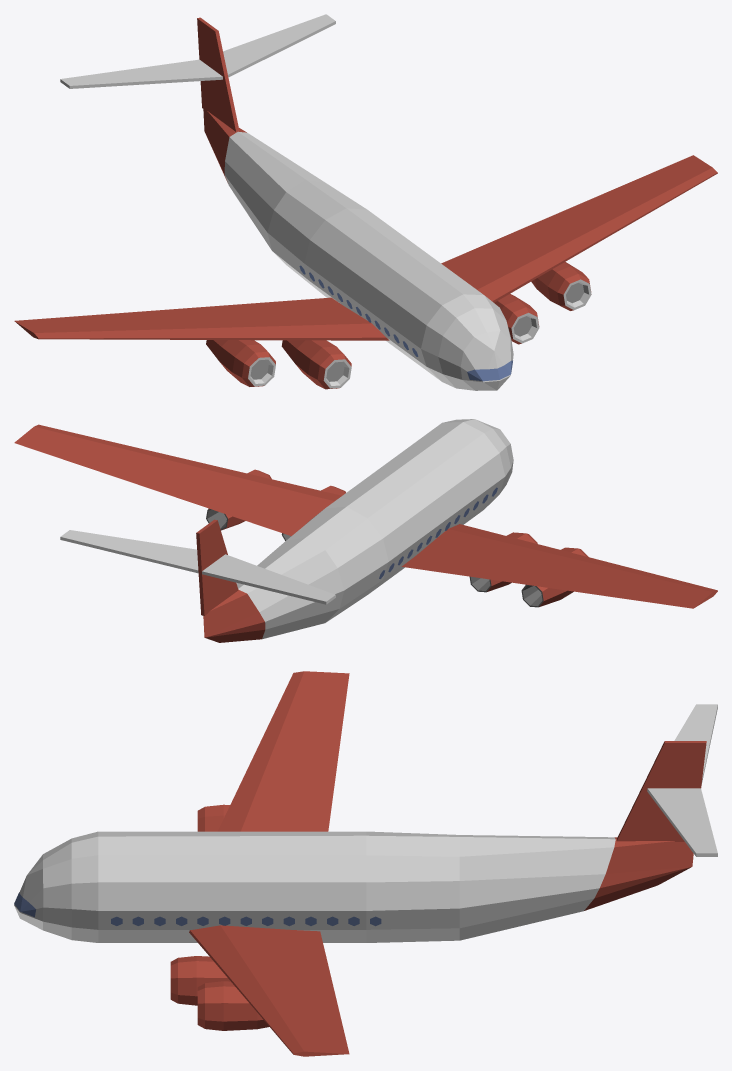
File: transport_air_003.fbx
3 views of the same model, one above another, from view 1: azimuth 30°, elevation 25°; view 2: azimuth 150°, elevation 25°; view 3: azimuth 270°, elevation 25° (orthographic). The views are drawn at different scales.
Parts seen in each view (by area): view 1: transport_air_003; view 2: transport_air_003; view 3: transport_air_003.
Part boxes in pixels (x1,y1,x2,y2): transport_air_003: (14, 14, 717, 390); transport_air_003: (14, 419, 717, 642); transport_air_003: (14, 671, 717, 1056).
Size of the model in its own units: 4121 by 1052 by 3217.
